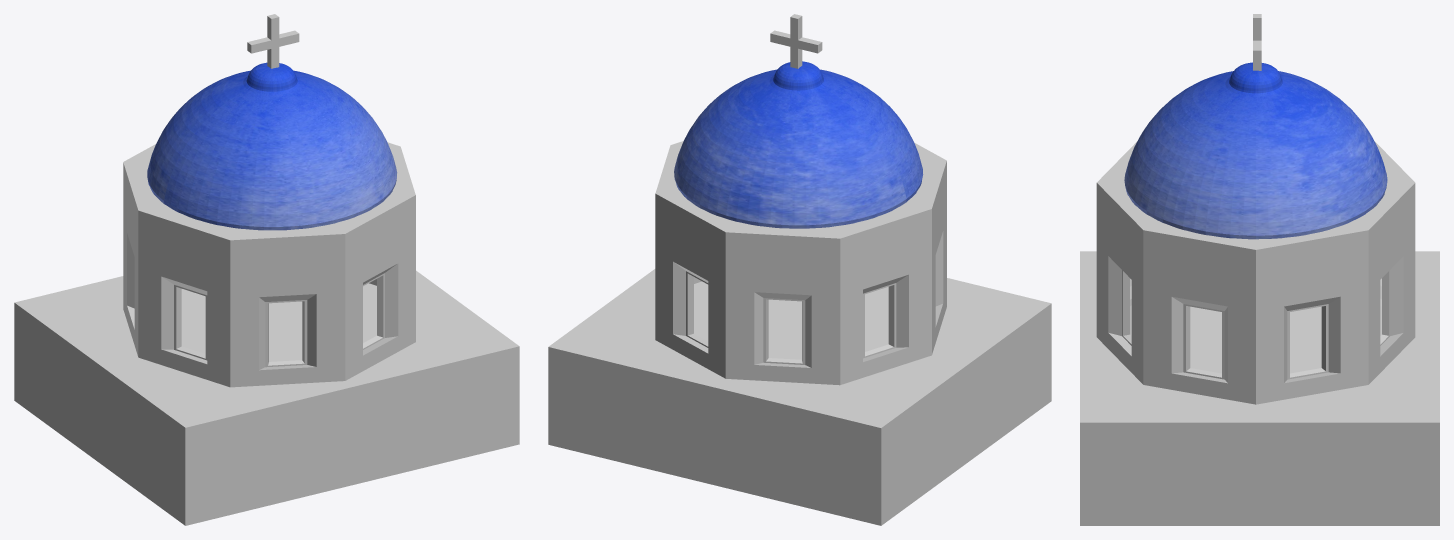
3 views of the same model, side by side, from view 1: azimuth 30°, elevation 25°; view 2: azimuth 150°, elevation 25°; view 3: azimuth 270°, elevation 25° (orthographic). The views are drawn at different scales.
Parts seen in each view (by area): view 1: Cube.026, Cylinder.001, Sphere.021, Cube.024; view 2: Cube.026, Cylinder.001, Sphere.021, Cube.024; view 3: Cube.026, Cylinder.001, Sphere.021, Cube.024.
Boxes of the visible parts, x1,y1,x2,y2 form: Cube.026: (14,270,519,525); Cylinder.001: (123,142,415,387); Sphere.021: (147,62,397,230); Cube.024: (247,14,299,68); Cube.026: (548,269,1051,525); Cylinder.001: (655,141,946,385); Sphere.021: (674,61,923,228); Cube.024: (770,14,822,68); Cube.026: (1080,251,1439,525); Cylinder.001: (1096,141,1415,404); Sphere.021: (1124,62,1387,239); Cube.024: (1253,14,1261,70).
Size of the model in its own units: 255 by 296 by 226.
